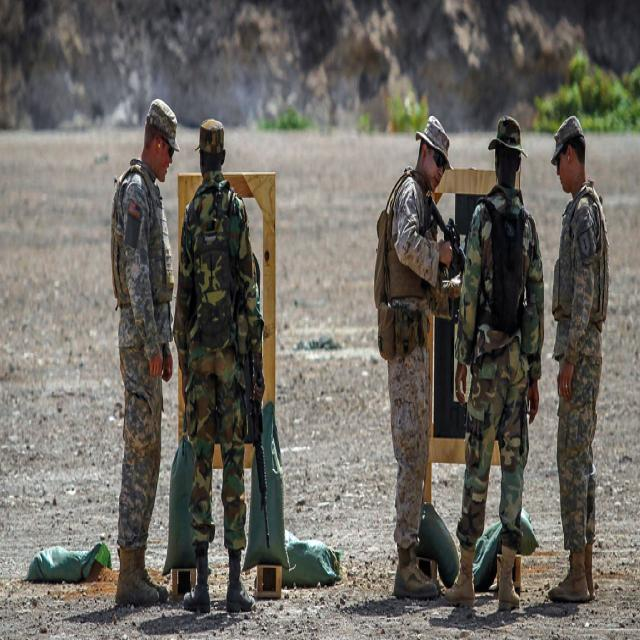Weapon: (241, 360, 298, 523), (420, 185, 492, 314)
